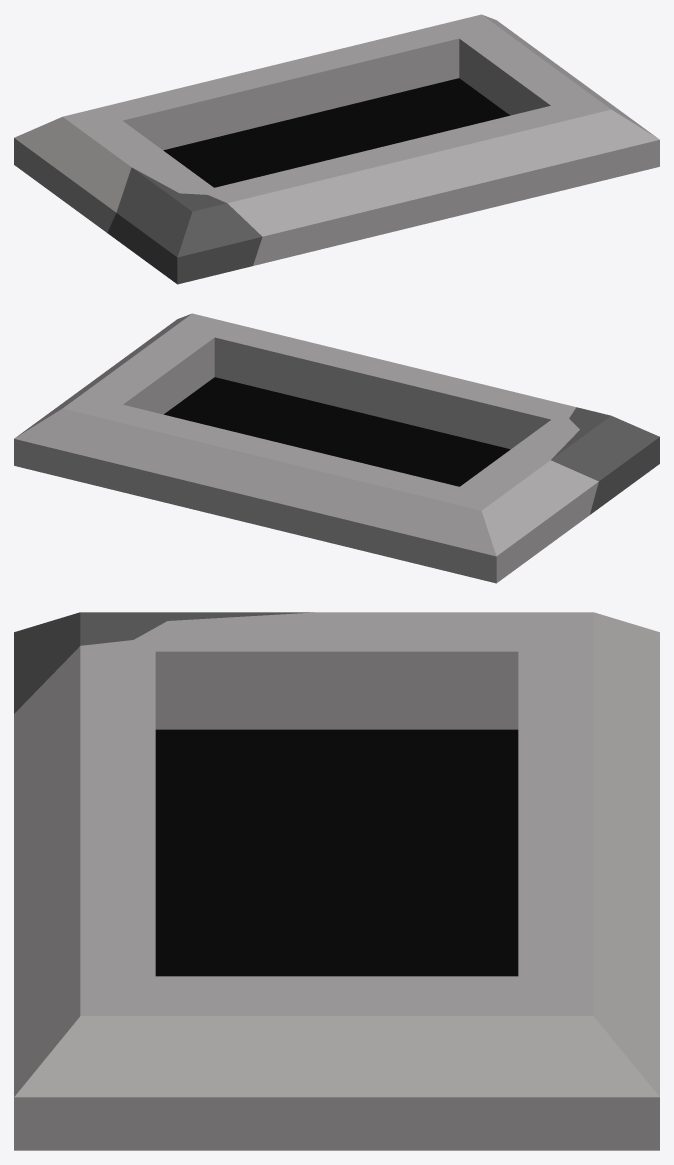
The model's file is ChainLinkHousingMetal.fbx.
The picture shows the model from 3 angles, top to bottom: view 1: azimuth 30°, elevation 25°; view 2: azimuth 150°, elevation 25°; view 3: azimuth 270°, elevation 25°; orthographic projection. The views are drawn at different scales.
Visible parts, largest first — view 1: ChainLinkHousingMetal; view 2: ChainLinkHousingMetal; view 3: ChainLinkHousingMetal.
Boxes of the visible parts, x1,y1,x2,y2 form: ChainLinkHousingMetal: (14,14,659,284); ChainLinkHousingMetal: (14,313,659,583); ChainLinkHousingMetal: (14,612,659,1150).
Size of the model in its own units: 40.23 by 4.2 by 23.61.
